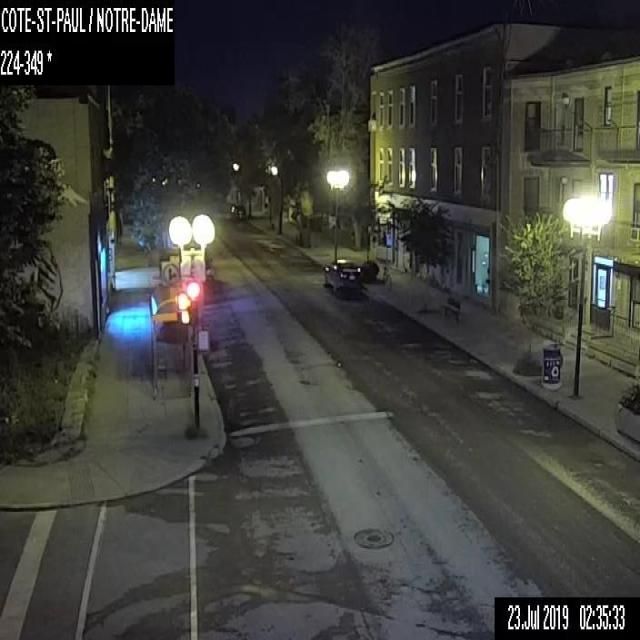vehicle: (324, 257, 363, 295), (202, 251, 212, 283), (228, 203, 245, 221)
